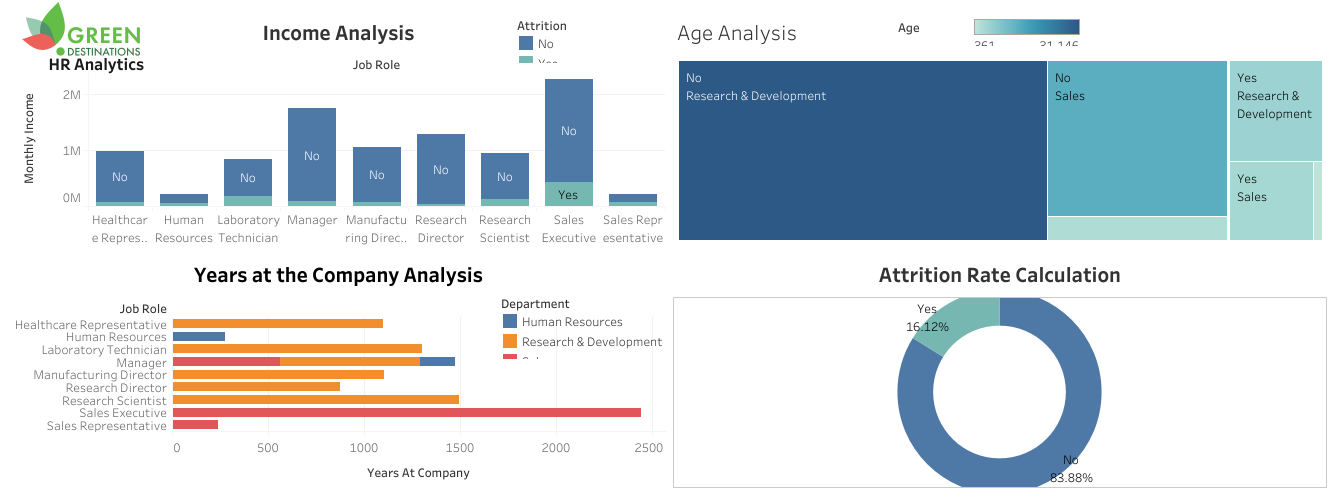

What the dashboard file says about the page in this screenshot:
{"tool":"tableau","page":{"name":"HR Analytics Dashboards","canvas":[1000,1000],"units":"permille","ordinal":0},"visuals":[{"type":"image","param":"Image/greendestination+logo.png","box":[16.2,3.4,106.9,107.9]},{"type":"worksheet","title":"Income Analysis","mark":"Automatic","rows":["MonthlyIncome"],"cols":["JobRole"],"box":[6.9,13.7,493.1,486.3]},{"type":"worksheet","title":"Age Analysis","mark":"Automatic","box":[500,13.7,493.1,486.3]},{"type":"dashboard-object","box":[108.9,15.6,15.2,26.7]},{"type":"legend","title":"Income Analysis","param":"[federated.0qmsc821k7s2wl1cfv4gs1a87dcb].[none:Attrition:nk]","box":[385.3,27.4,121.2,99.3]},{"type":"legend","title":"Age Analysis","param":"[federated.0qmsc821k7s2wl1cfv4gs1a87dcb].[sum:Age:qk]","box":[671,29.1,138.5,63.4]},{"type":"text","box":[34.2,82.2,93.2,89]},{"type":"worksheet","title":"Years at Company Analysis","mark":"Bar","rows":["JobRole"],"cols":["YearsAtCompany"],"box":[6.9,500,493.1,486.3]},{"type":"worksheet","title":"Attrition Rate Calculation","mark":"Pie","cols":["Calculation_828380869503344641","Calculation_828380869503418371"],"box":[500,500,493.1,486.3]},{"type":"legend","title":"Years at Company Analysis","param":"[federated.0qmsc821k7s2wl1cfv4gs1a87dcb].[none:Department:nk]","box":[373.2,583.9,125.5,133.6]}]}

Visuals, with their boxes on the dashboard's canvas, which has no fixed pixel size, in thousandths of its width and height (x1, y1, x2, y2). These are canvas units, not pixel positions in the 1338x499 screenshot, which may show the page scaled, cropped or inside an application window:
image: pyautogui.locateOnScreen(16, 3, 123, 111)
"Income Analysis" worksheet: pyautogui.locateOnScreen(7, 14, 500, 500)
"Age Analysis" worksheet: pyautogui.locateOnScreen(500, 14, 993, 500)
dashboard-object: pyautogui.locateOnScreen(109, 16, 124, 42)
"Income Analysis" legend: pyautogui.locateOnScreen(385, 27, 506, 127)
"Age Analysis" legend: pyautogui.locateOnScreen(671, 29, 810, 92)
text: pyautogui.locateOnScreen(34, 82, 127, 171)
"Years at Company Analysis" worksheet (Bar marks): pyautogui.locateOnScreen(7, 500, 500, 986)
"Attrition Rate Calculation" worksheet (Pie marks): pyautogui.locateOnScreen(500, 500, 993, 986)
"Years at Company Analysis" legend: pyautogui.locateOnScreen(373, 584, 499, 718)
